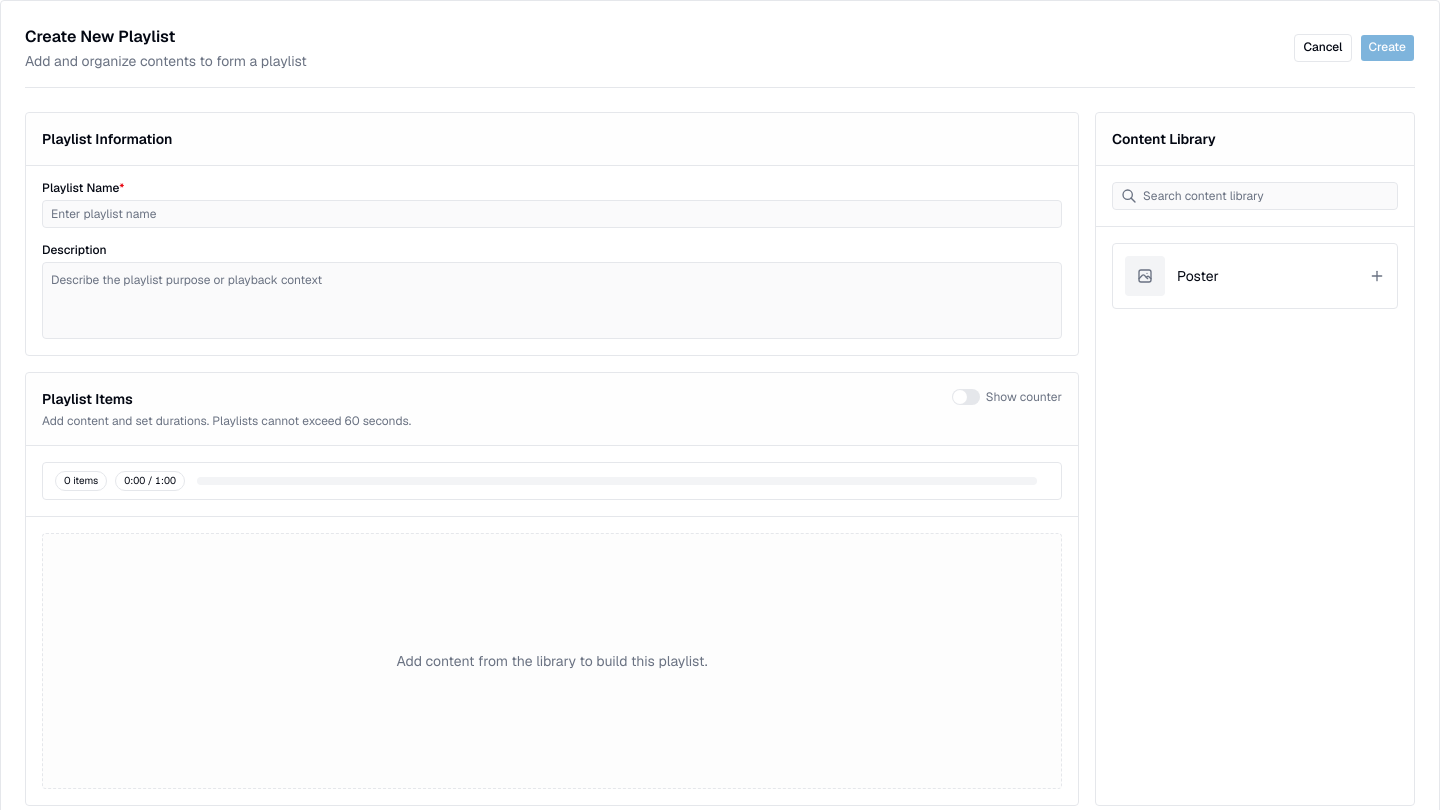
Test: CreatePlaylistForm › requires at least one playlist item before creation
Expected: the button "Create" is disabled, [1360, 34, 1415, 62]
In the field labelled "Playlist Name": (552, 214) [42, 200, 1062, 228], type "Morning Playlist"
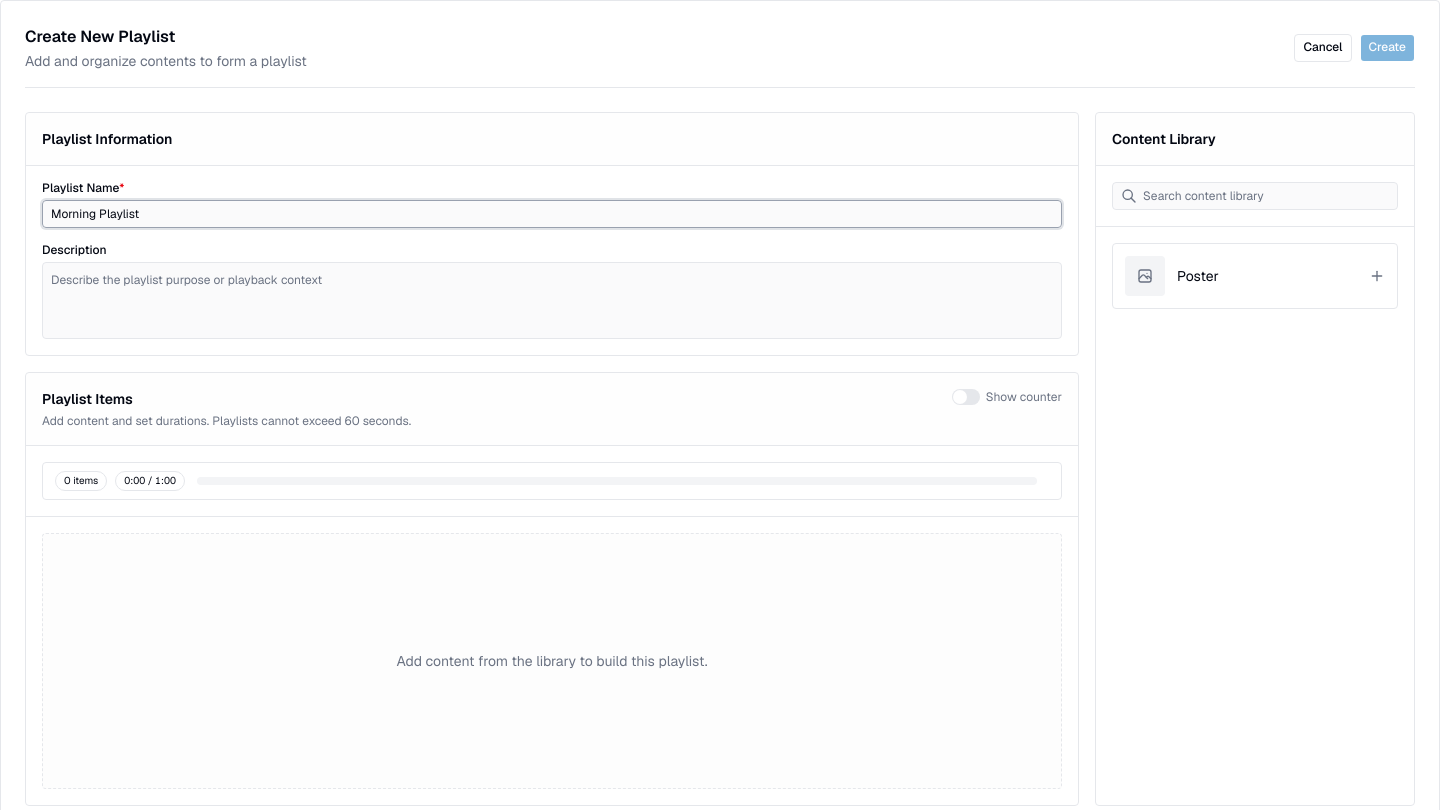
Expected: the button "Create" is disabled, [1360, 34, 1415, 62]
Click the button "Poster": (1145, 276) [1112, 243, 1398, 309]
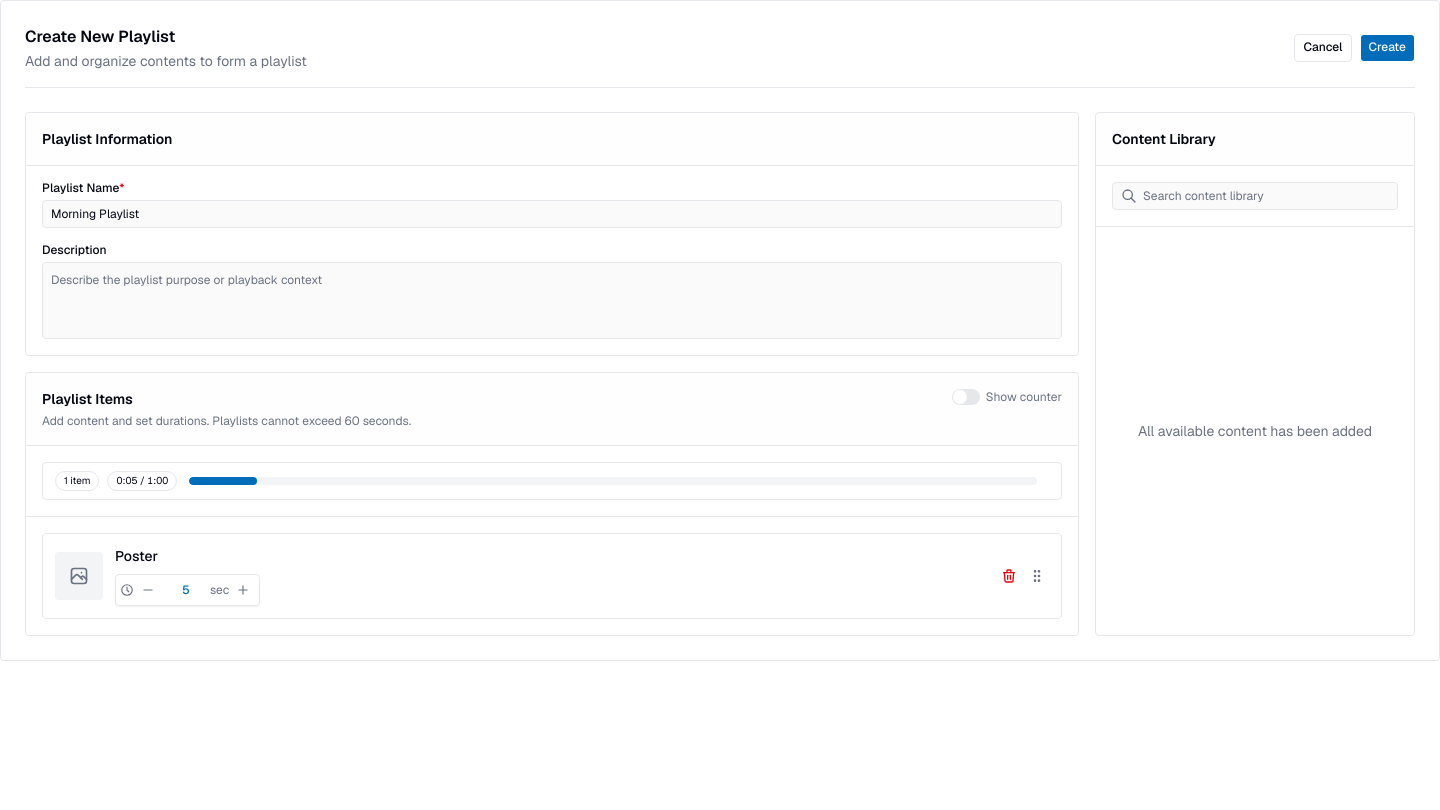
Now the button "Create" is enabled, box [1360, 34, 1415, 62]
